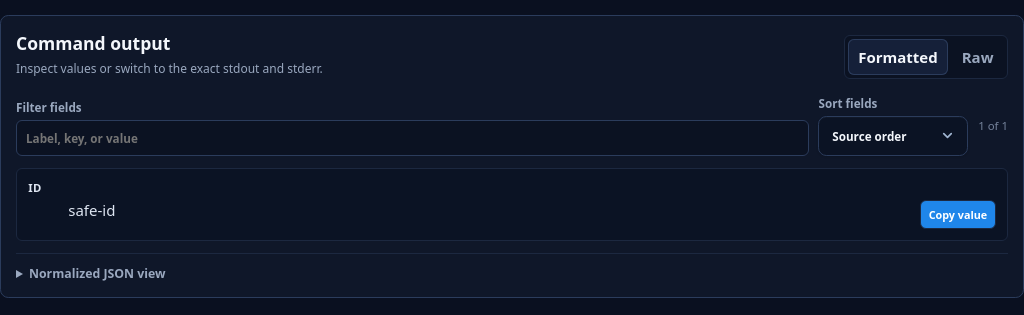
OutputExplorer › supports backend-validated structured fields without parsing raw stdout
Expected: the text "safe-id" is shown, left=68, top=200, right=116, bottom=220
Click the button "Raw": (978, 57) left=951, top=39, right=1004, bottom=75
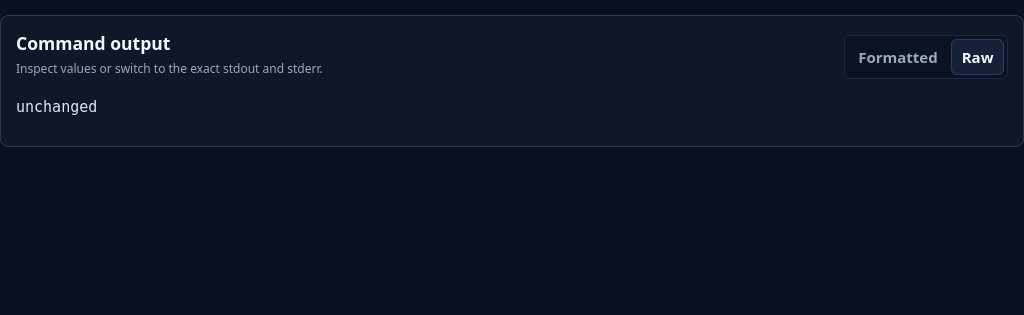
Expected: the text "unchanged" is shown, left=16, top=98, right=97, bottom=116
